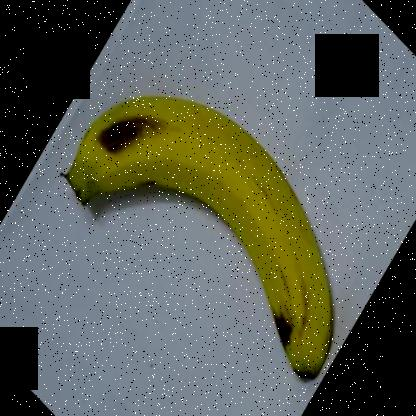freshripe: (49, 76, 352, 398)
